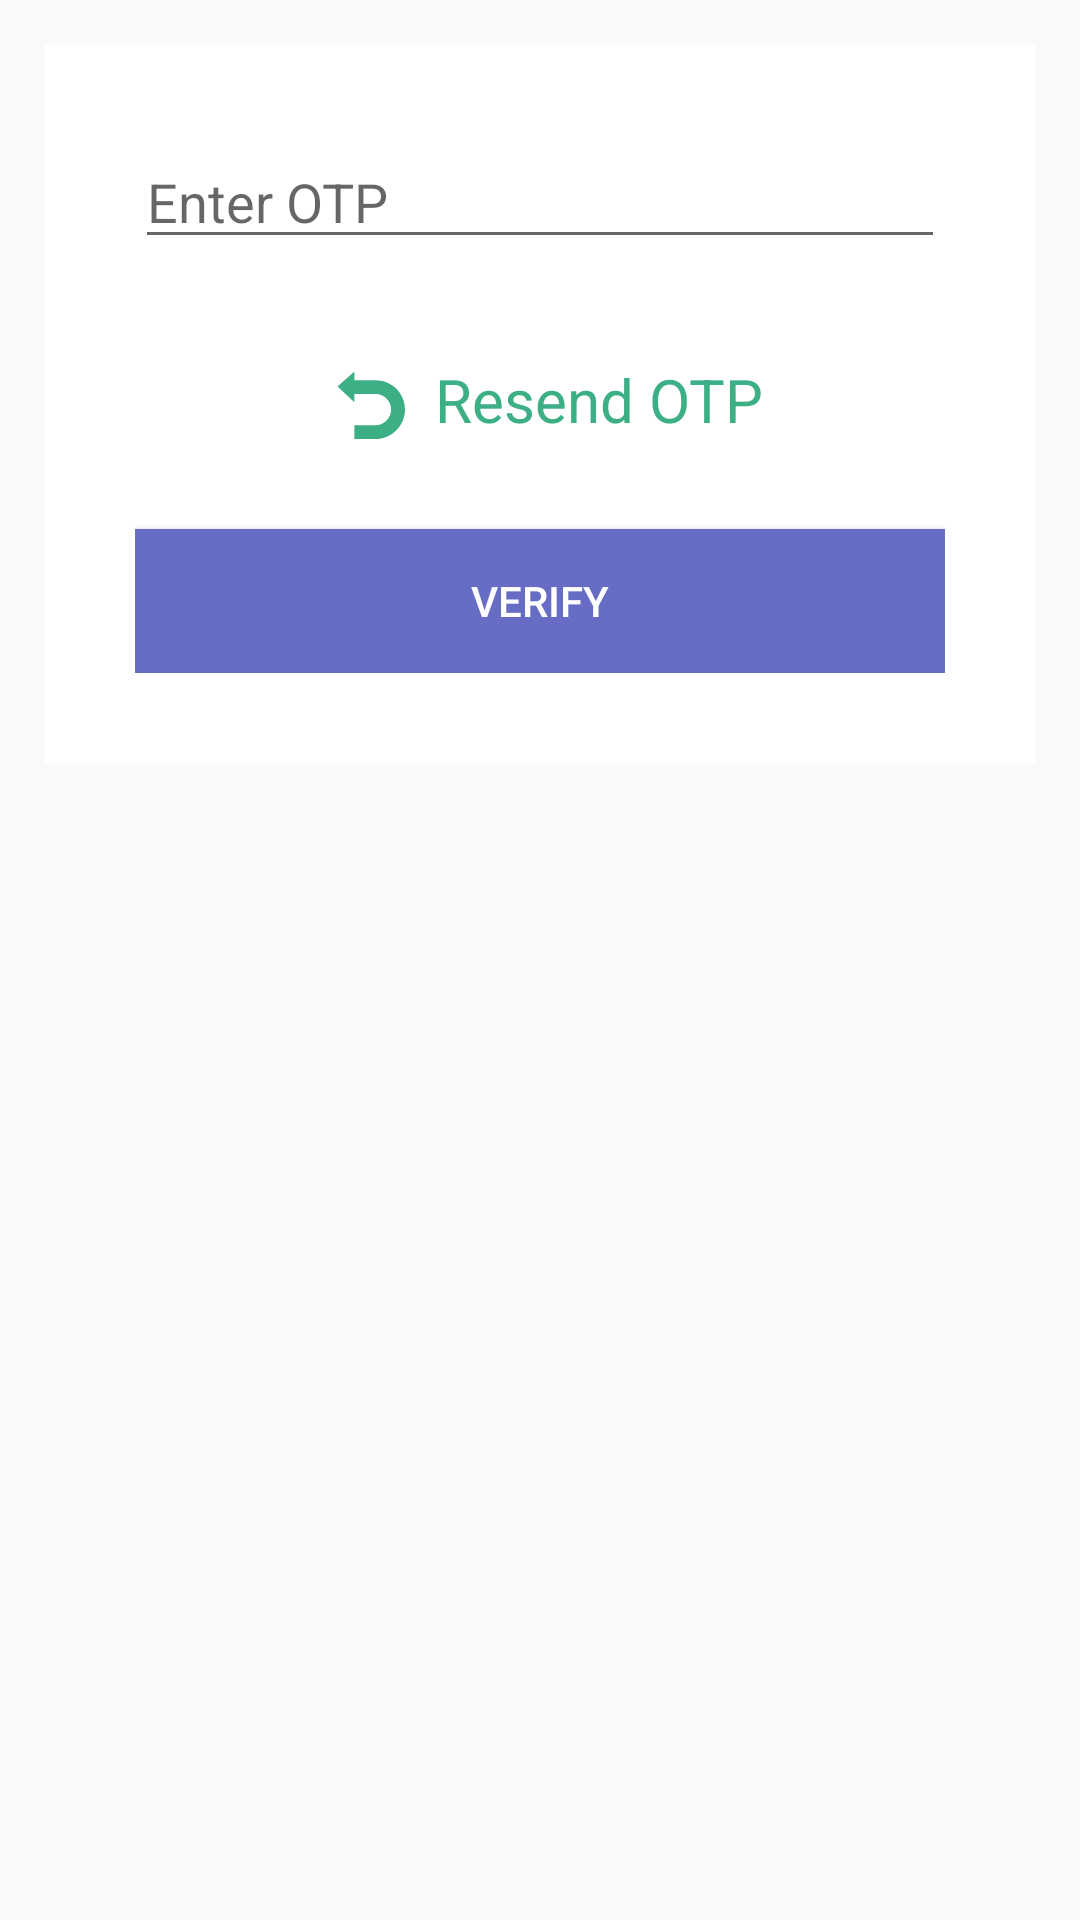

Named icons in this screenshot (1080*1920) and their centers, point (x, y):
return: point (371, 405)
